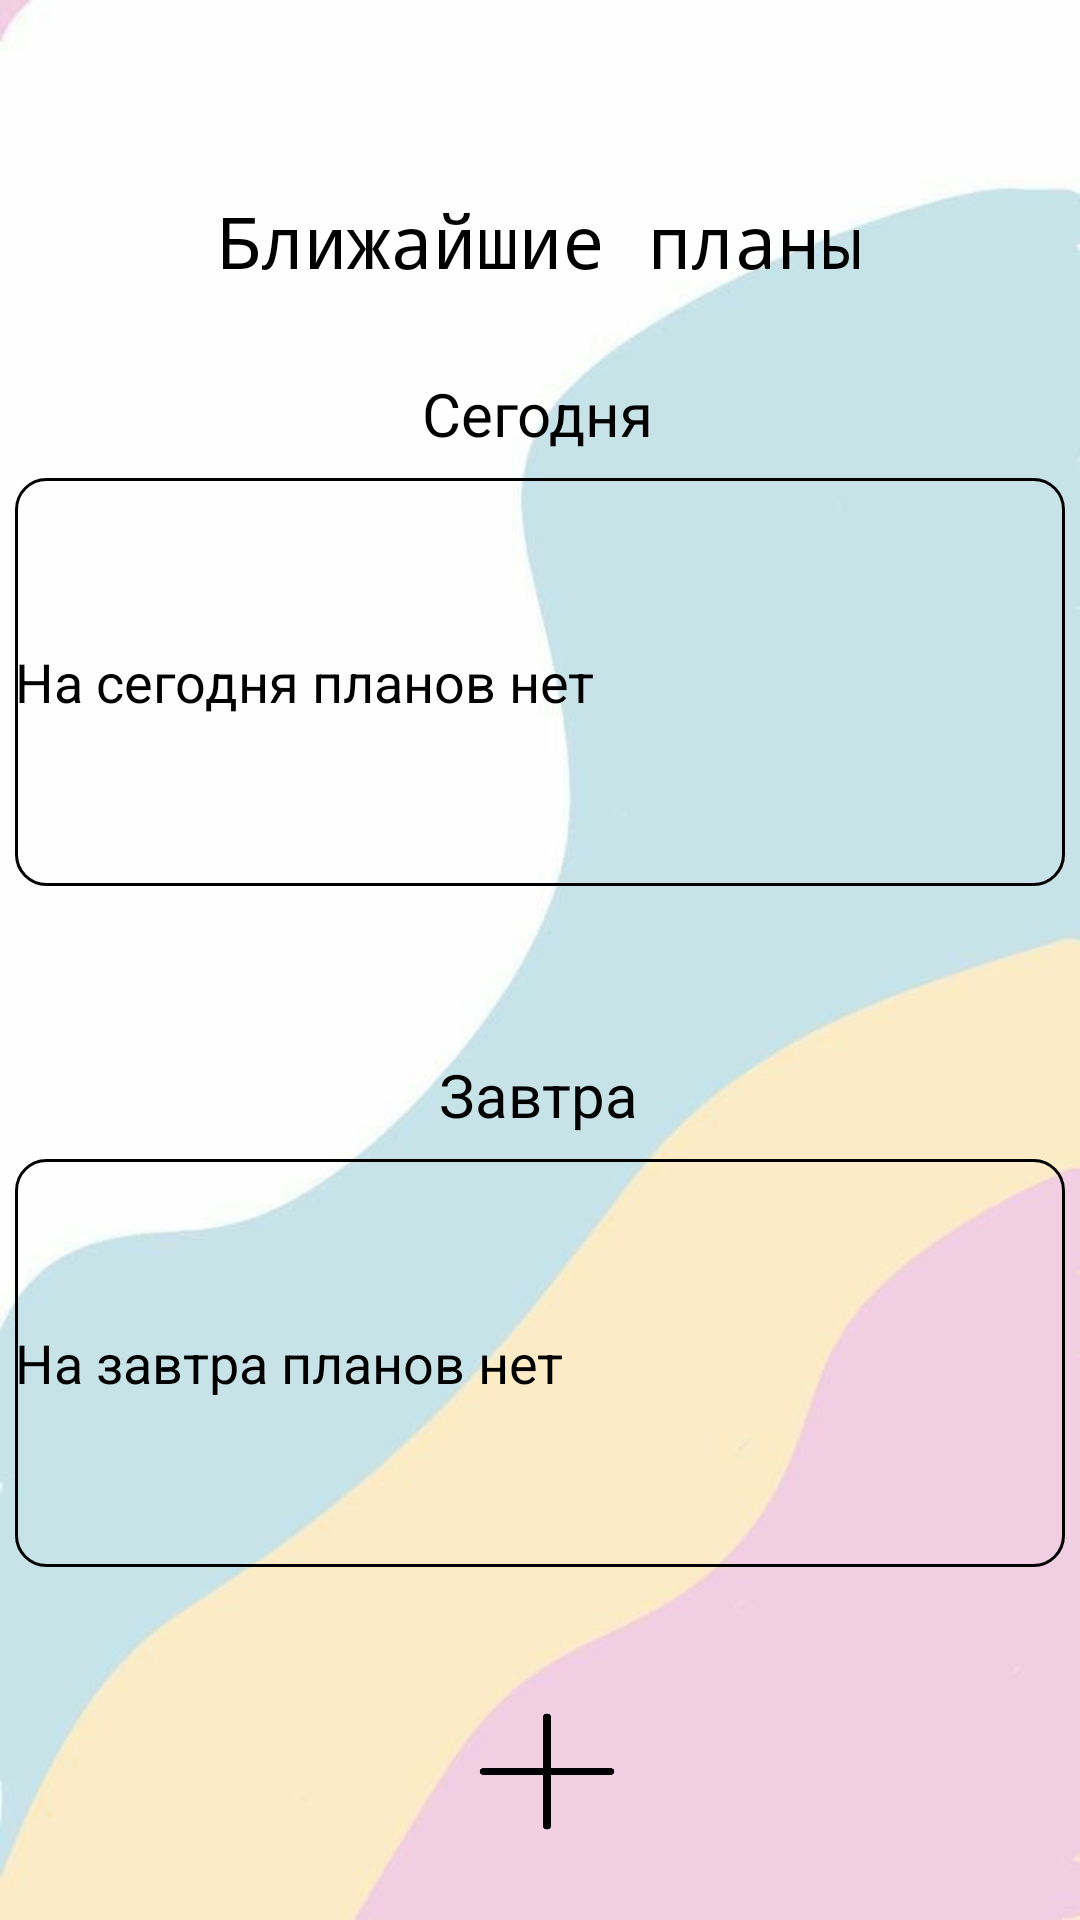

Named icons in this screenshot (1080*1920) and their centers, [x,y]:
add: [547,1771]
